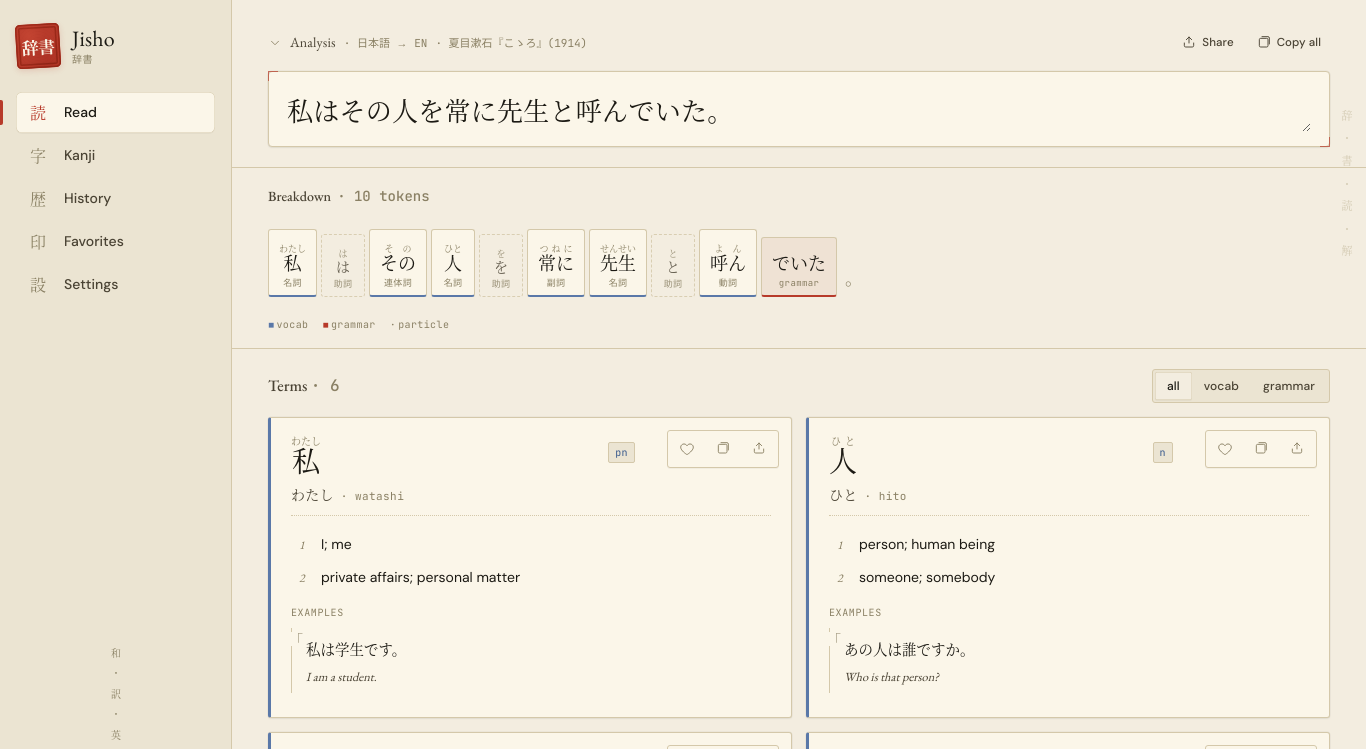
it: History screen › Clear all is gated by an inline confirmation prompt
Click the button "歴 History": point(116, 198) [16, 178, 215, 219]
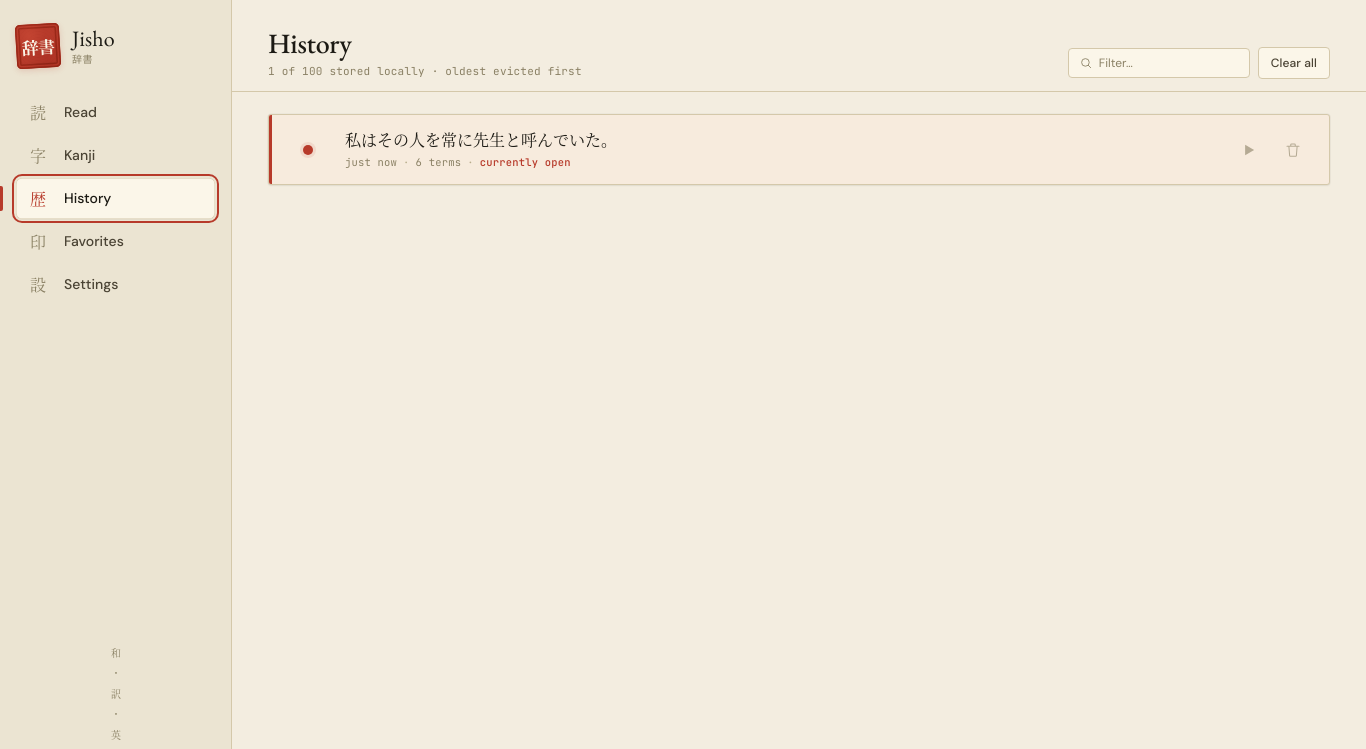
Click the button "Clear all": point(1294, 63) [1258, 47, 1330, 79]
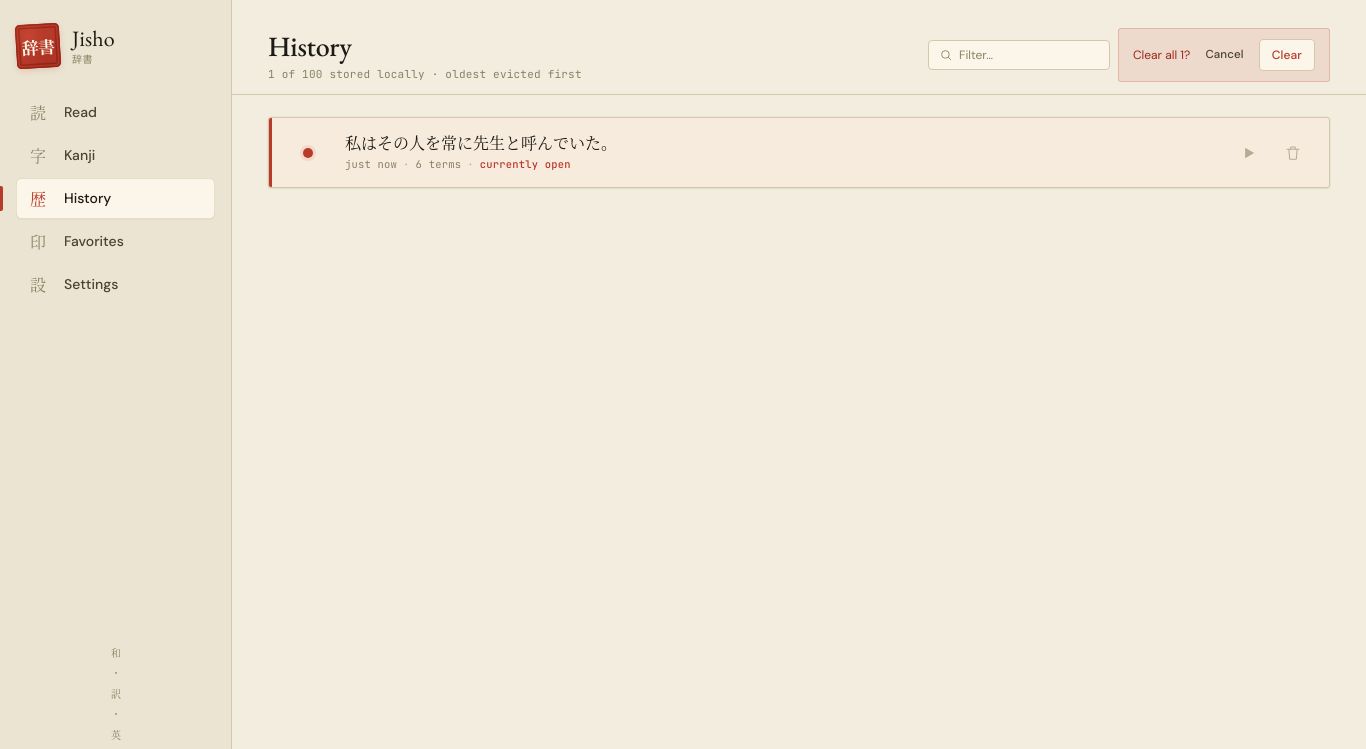
Result: the number of list items with class "hrow" is 1 at [269, 118, 1329, 187]
Result: the text "Clear all 1?" is shown at [1133, 46, 1190, 64]
Click the button "Cancel": point(1225, 55) [1196, 40, 1253, 70]
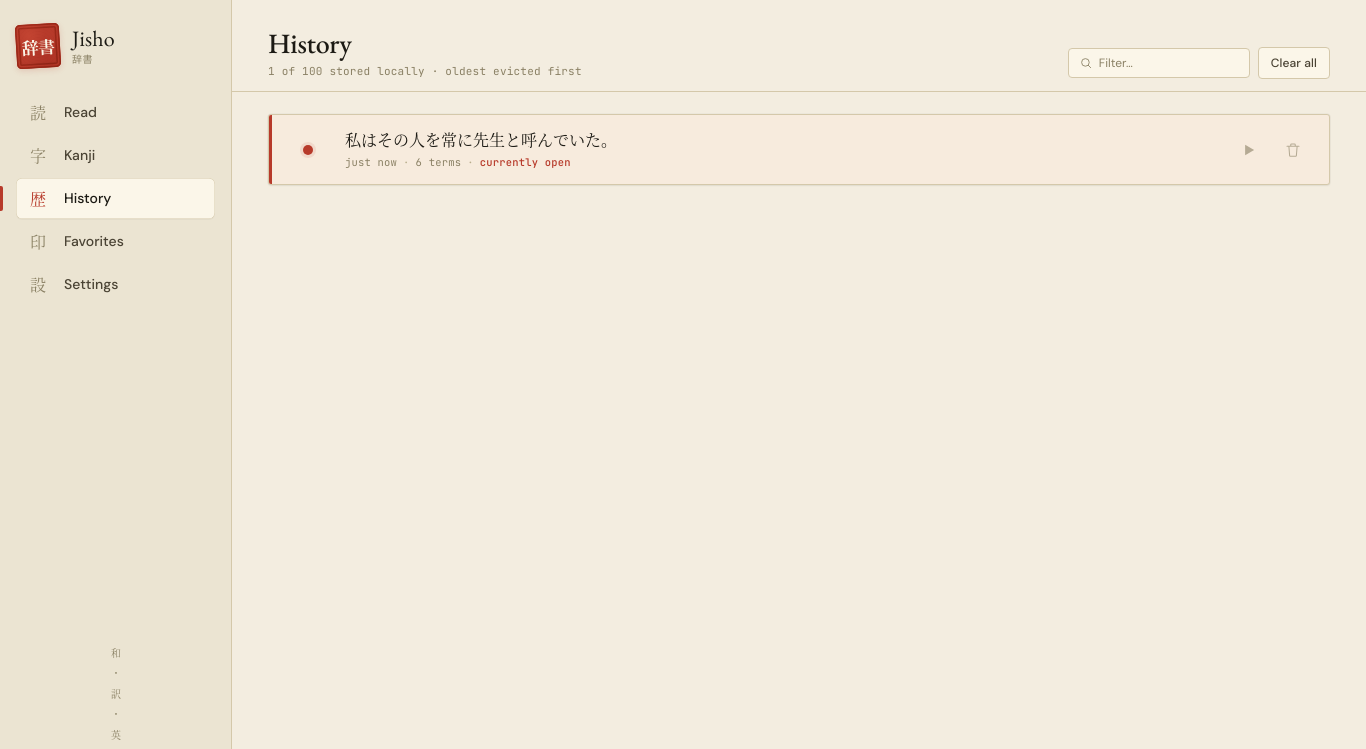
Result: the number of list items with class "hrow" is 1 at [269, 115, 1329, 184]
Result: the text "Clear all 1?" is gone
Click the button "Clear all": point(1294, 63) [1258, 47, 1330, 79]
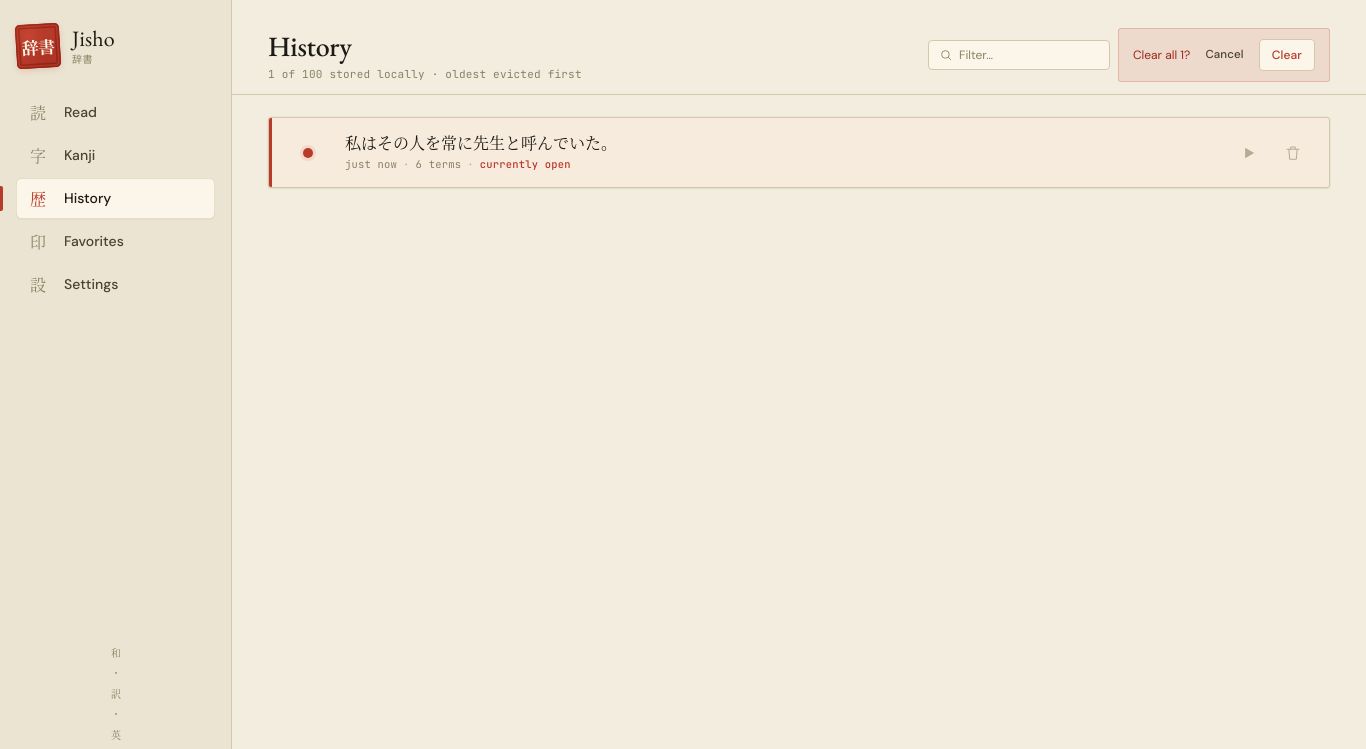
Click the button with aria-label "confirm clear": point(1287, 55) [1259, 39, 1315, 71]
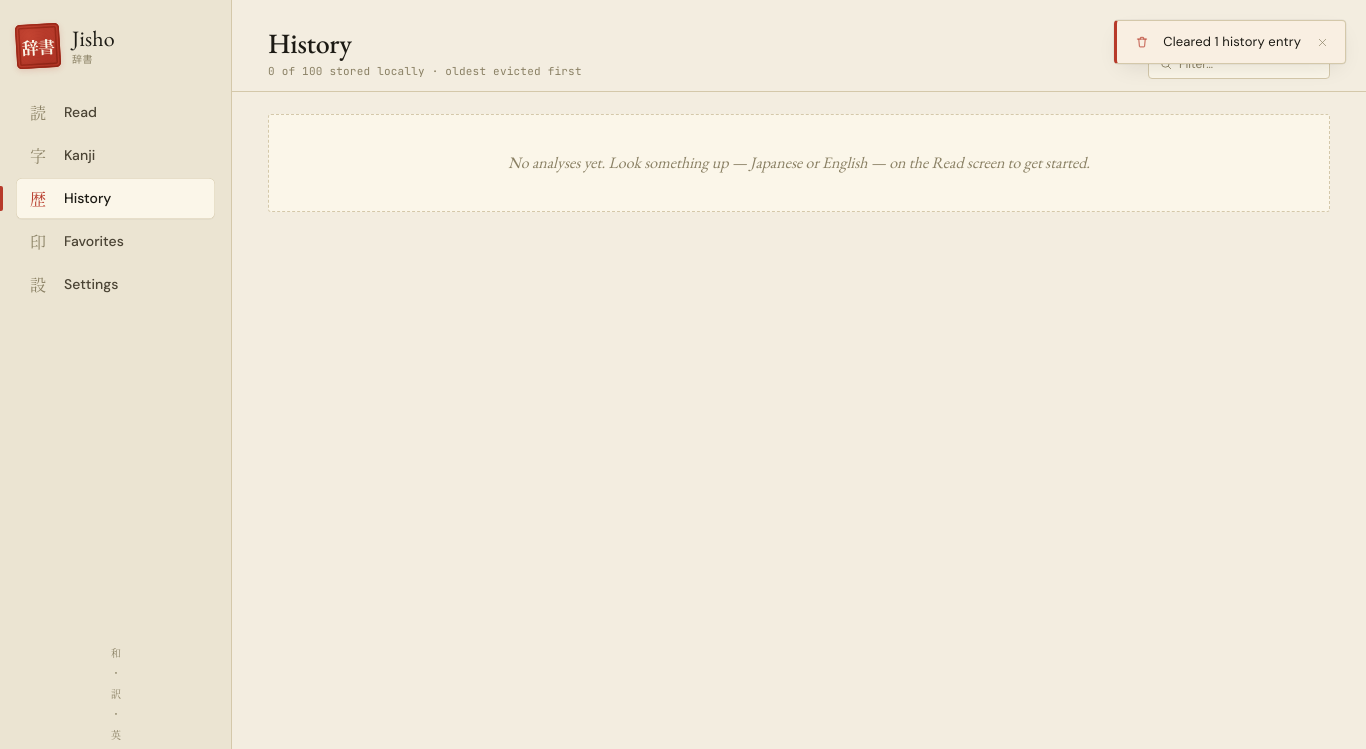
Result: no list items with class "hrow" are shown
Result: the text "No analyses yet" is shown at [508, 152, 1090, 173]
